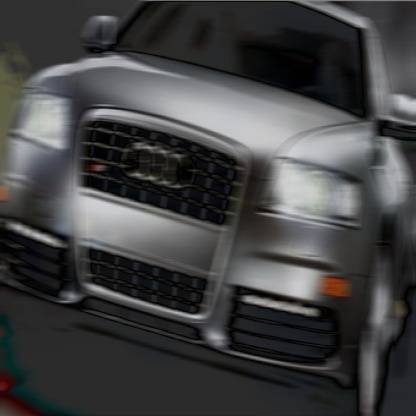Vehicle: (2, 1, 416, 415)
